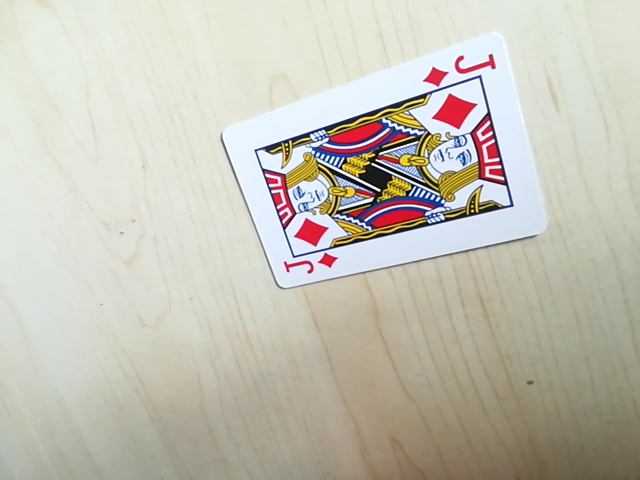fk j: (421, 48, 499, 87), (279, 251, 341, 284)
